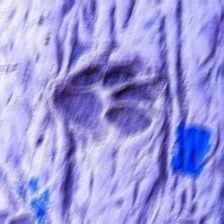cat: (48, 63, 166, 147)
